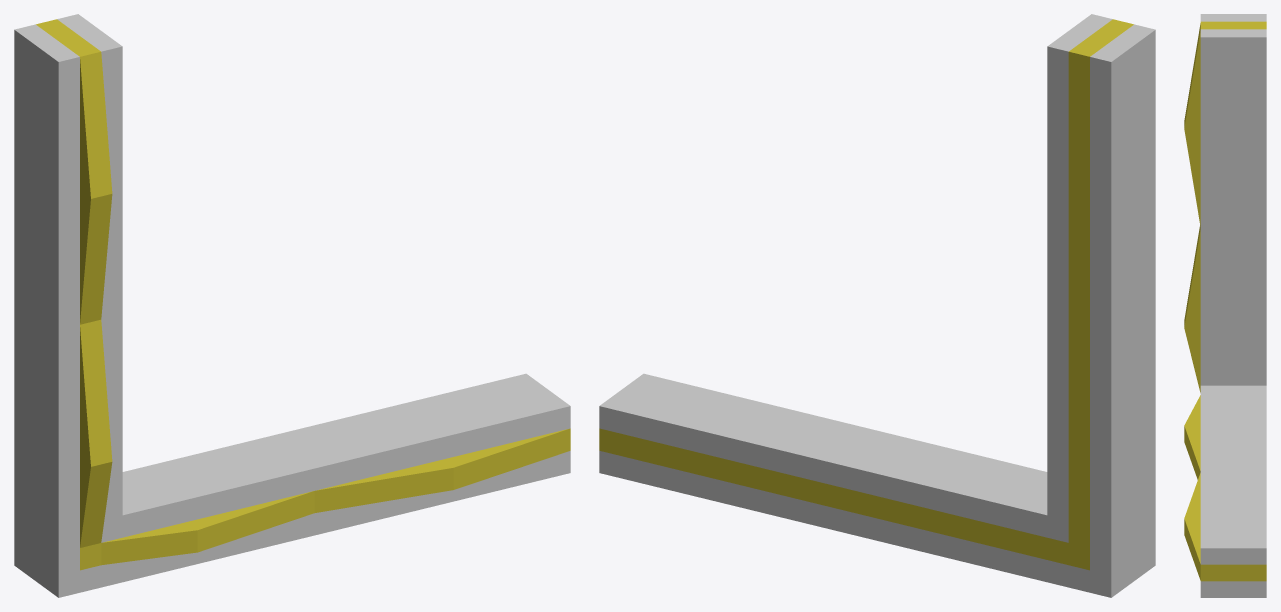
Rendered from WallBend2.fbx.
3 views of the same model, side by side, from view 1: azimuth 30°, elevation 25°; view 2: azimuth 150°, elevation 25°; view 3: azimuth 270°, elevation 25° (orthographic). The views are drawn at different scales.
Parts seen in each view (by area): view 1: Cube; view 2: Cube; view 3: Cube.
Boxes of the visible parts, box(x1,y1,x2,y2) form: Cube: box(14, 14, 570, 597); Cube: box(599, 14, 1155, 597); Cube: box(1184, 14, 1266, 597).
Size of the model in its own units: 400 by 400 by 75.
